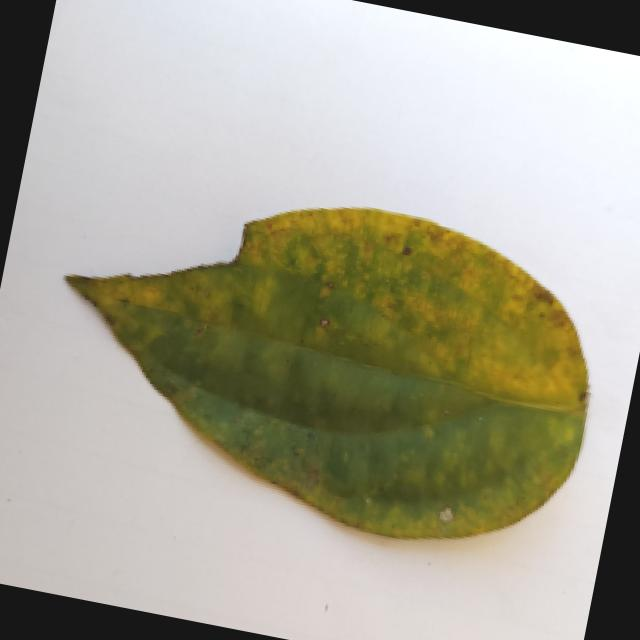slow-decline: (20, 150, 633, 582)
